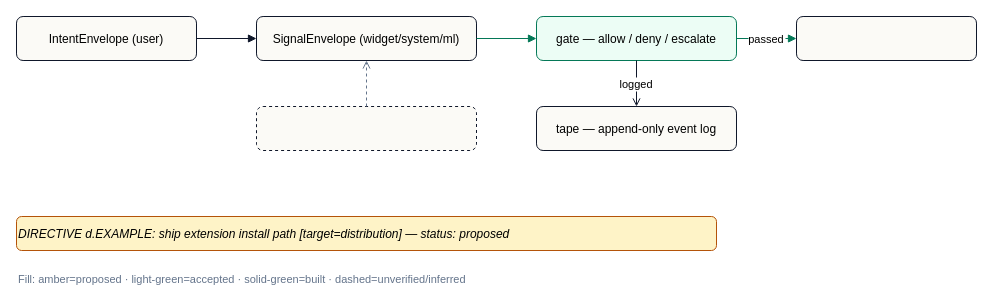
Some shapes in this 993 by 303 pixel diagram are drawn without their labels. Here are the shapes that lost their labels. From the top down, the box of each, then its label:
(796, 16, 976, 60): widget host — zones
(256, 106, 476, 150): ml — PredictionEnvelope
